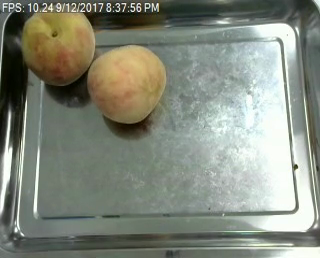Peach: (87, 45, 167, 123), (22, 3, 97, 84)
